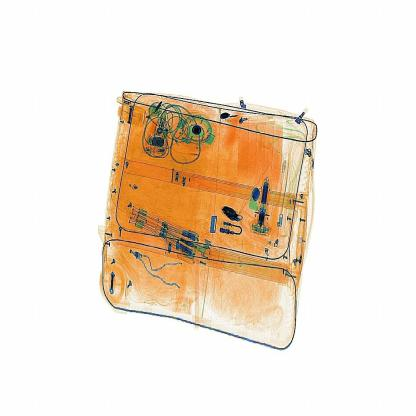scissors: (218, 202, 246, 223)
